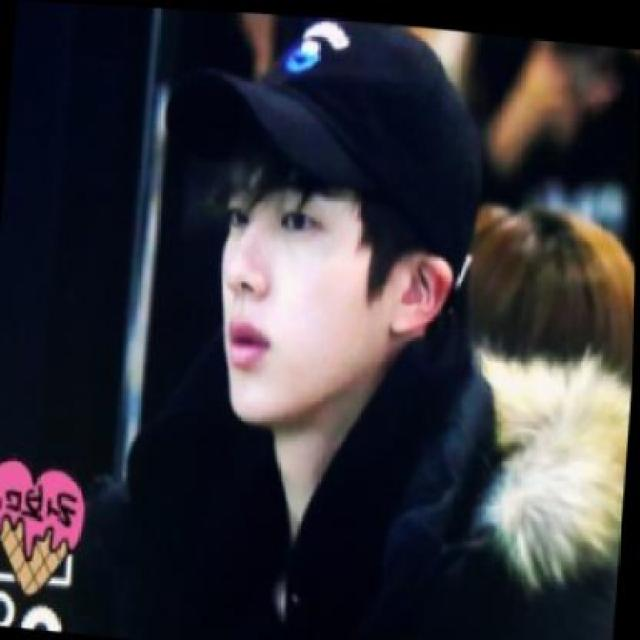hat: (157, 6, 495, 245)
